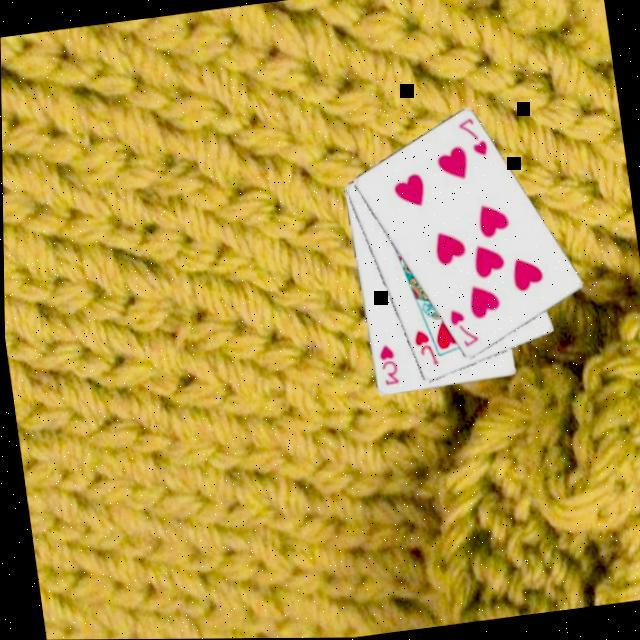3H: (372, 343, 400, 391)
7H: (443, 305, 481, 355), (452, 115, 490, 165)
JH: (407, 327, 439, 372)
